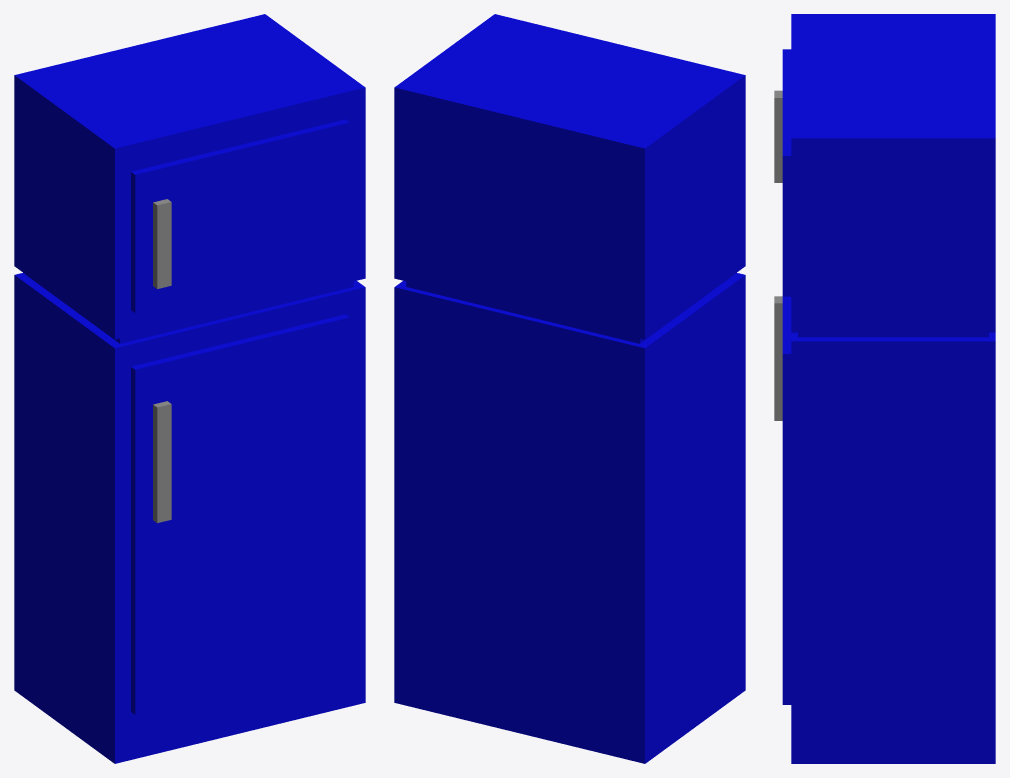
Rendered from Big_Frigo.fbx.
3 views of the same model, side by side, from view 1: azimuth 30°, elevation 25°; view 2: azimuth 150°, elevation 25°; view 3: azimuth 270°, elevation 25° (orthographic).
Parts seen in each view (by area): view 1: pCube144; view 2: pCube144; view 3: pCube144.
Boxes of the visible parts, box(x1,y1,x2,y2) form: pCube144: box(14, 14, 365, 763); pCube144: box(394, 14, 745, 763); pCube144: box(774, 14, 995, 763).
Bounding box in the file's own units: 146 × 342 × 109.
